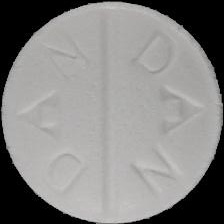61919-191: (0, 0, 224, 224)
